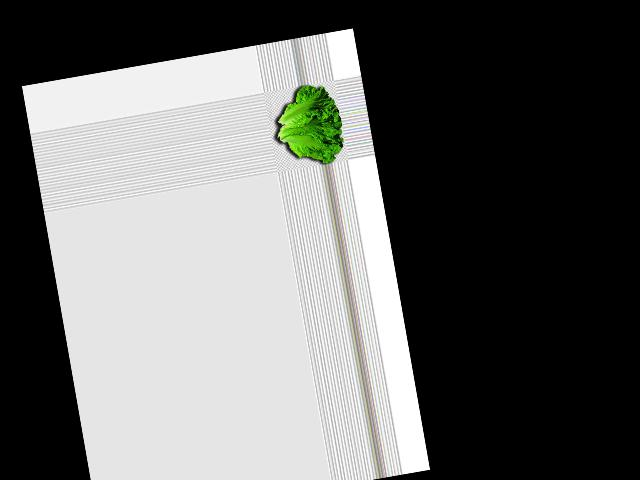lettuce: (267, 79, 347, 169)
